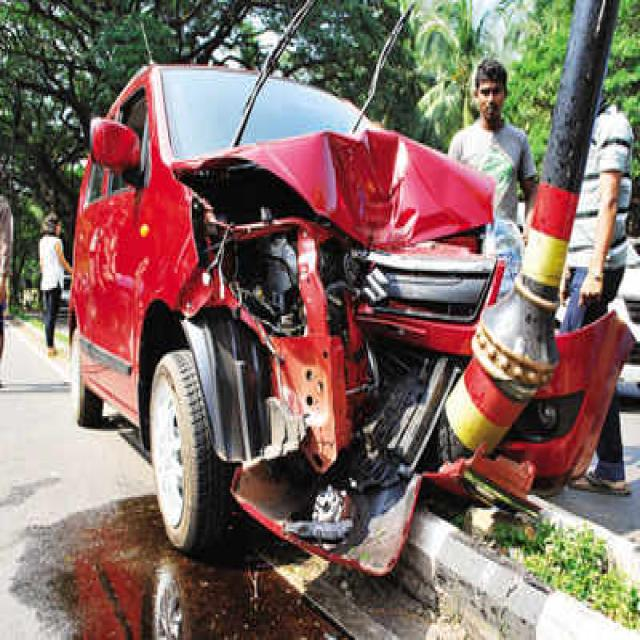accident: (70, 65, 630, 574)
